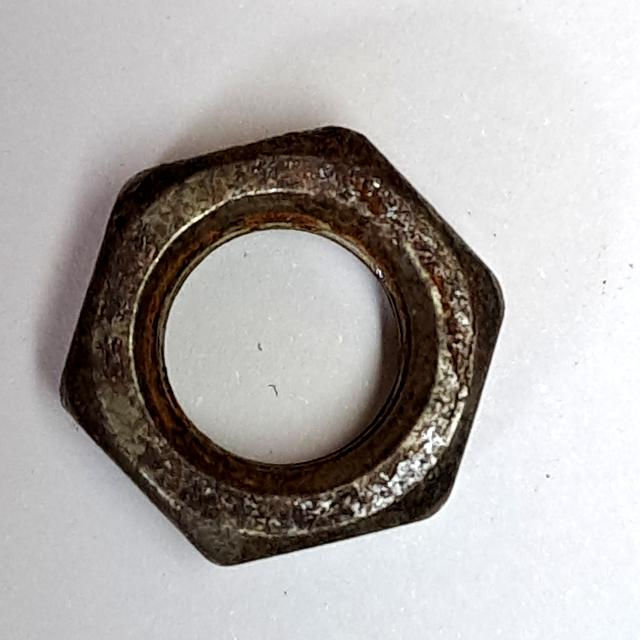Rust: (49, 119, 514, 576)
